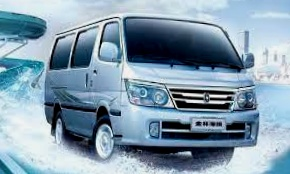van: (40, 10, 265, 169)
